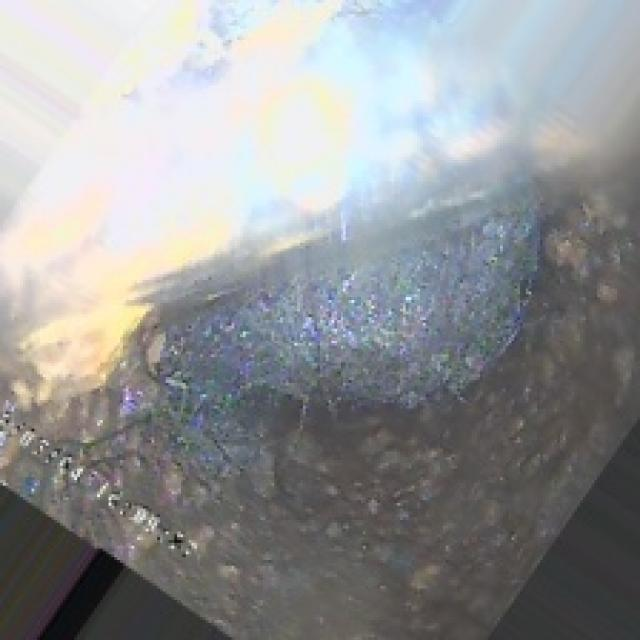Root_blockage: (154, 228, 569, 403)
